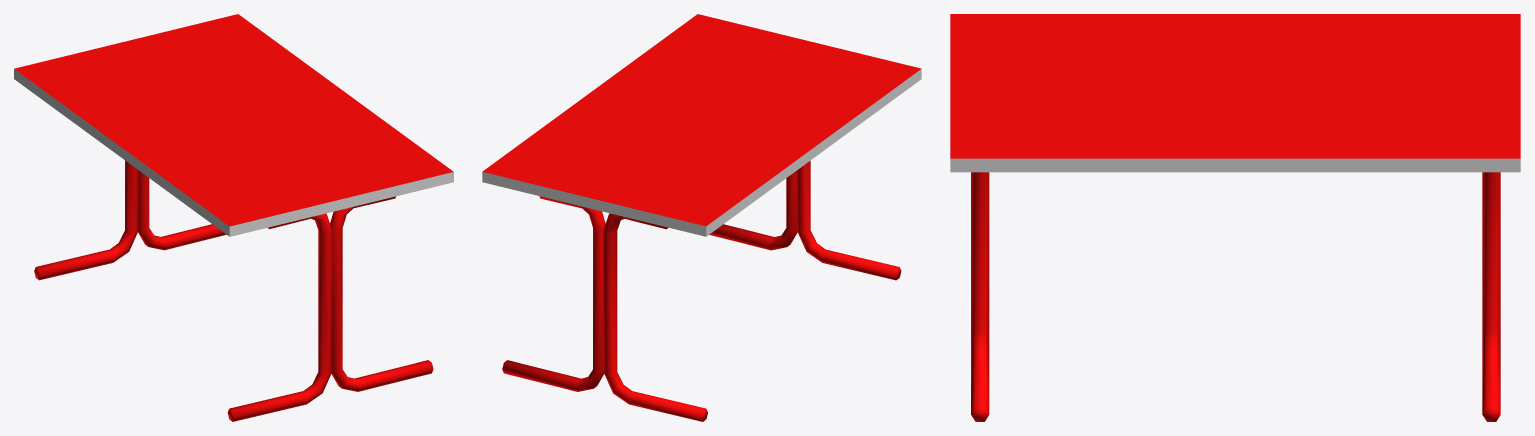
File: table01.fbx
3 renders of one model, left to right at view 1: azimuth 30°, elevation 25°; view 2: azimuth 150°, elevation 25°; view 3: azimuth 270°, elevation 25°, orthographic. The views are drawn at different scales.
Visible parts, largest first — view 1: Cube; view 2: Cube; view 3: Cube.
Boxes of the visible parts, bbox=[...] form: Cube: bbox=[14, 14, 453, 421]; Cube: bbox=[482, 14, 921, 421]; Cube: bbox=[950, 14, 1520, 421].
Bounding box in the file's own units: 90 × 79.04 × 150.
